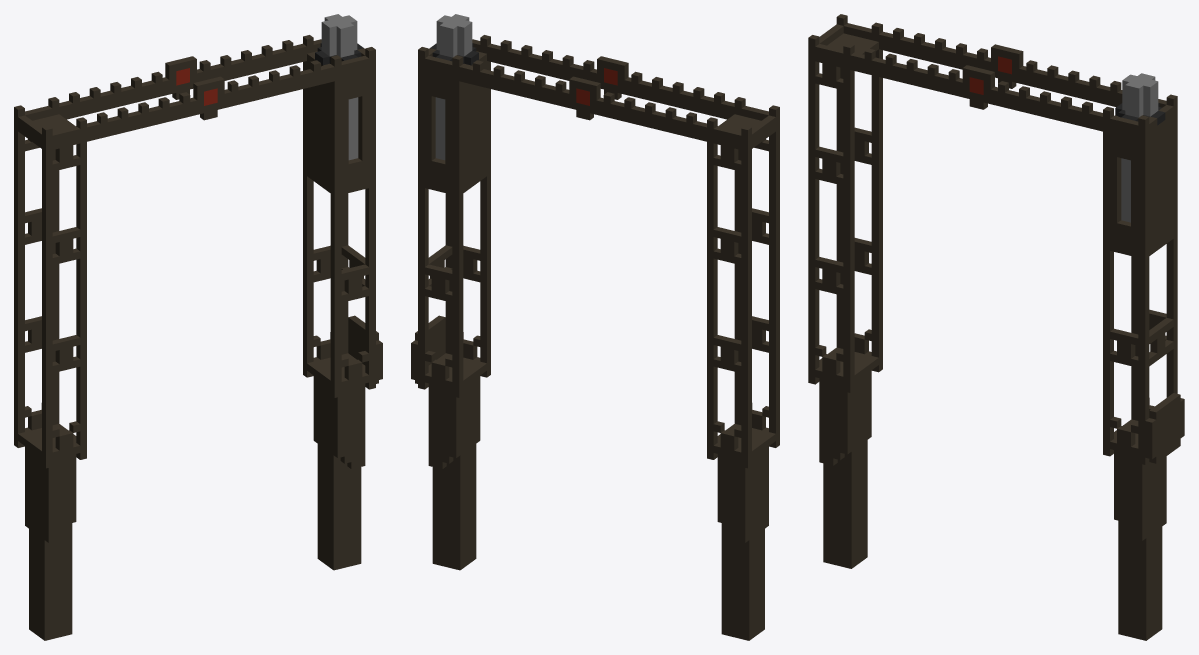
Rendered from шлагбаум( основа ).obj.
The picture shows the model from 3 angles, left to right: view 1: azimuth 30°, elevation 25°; view 2: azimuth 150°, elevation 25°; view 3: azimuth 330°, elevation 25°; orthographic projection. The views are drawn at different scales.
Size of the model in its own units: 4.9 by 7.5 by 0.8.
1 material, 1 textured.
